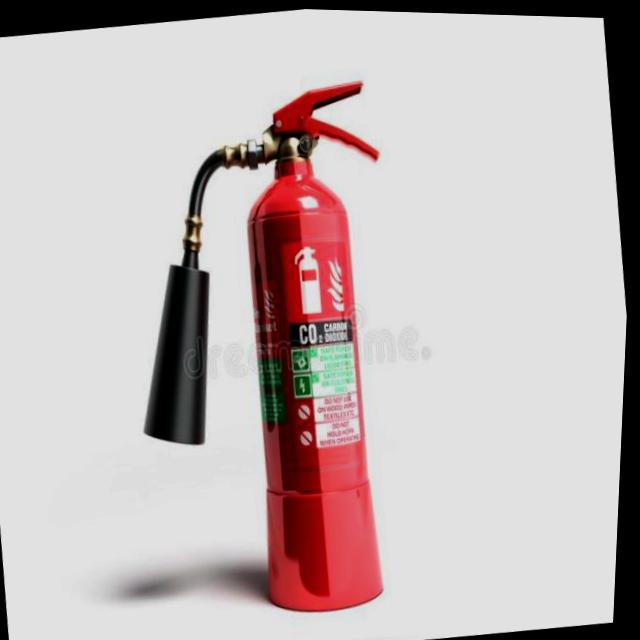FireExtinguisher: (94, 66, 445, 640)
